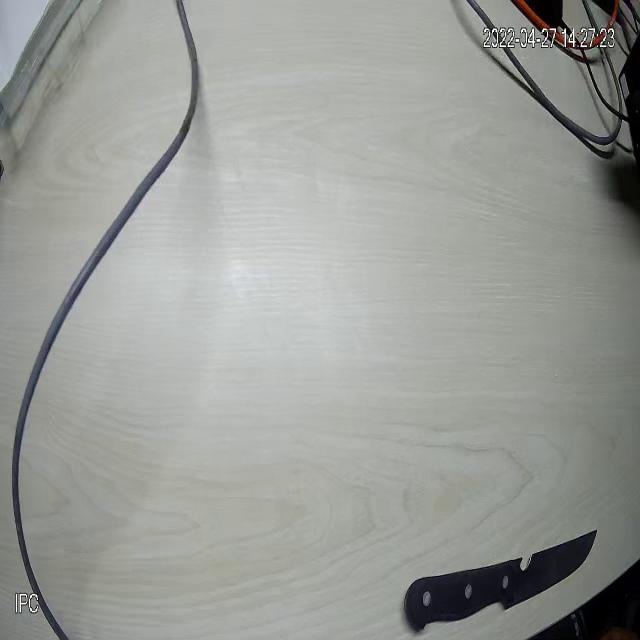knife: (404, 522, 606, 628)
